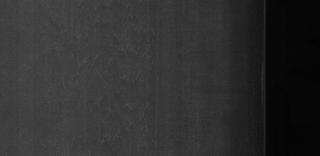silk spot: (89, 72, 159, 132), (86, 21, 156, 62)
